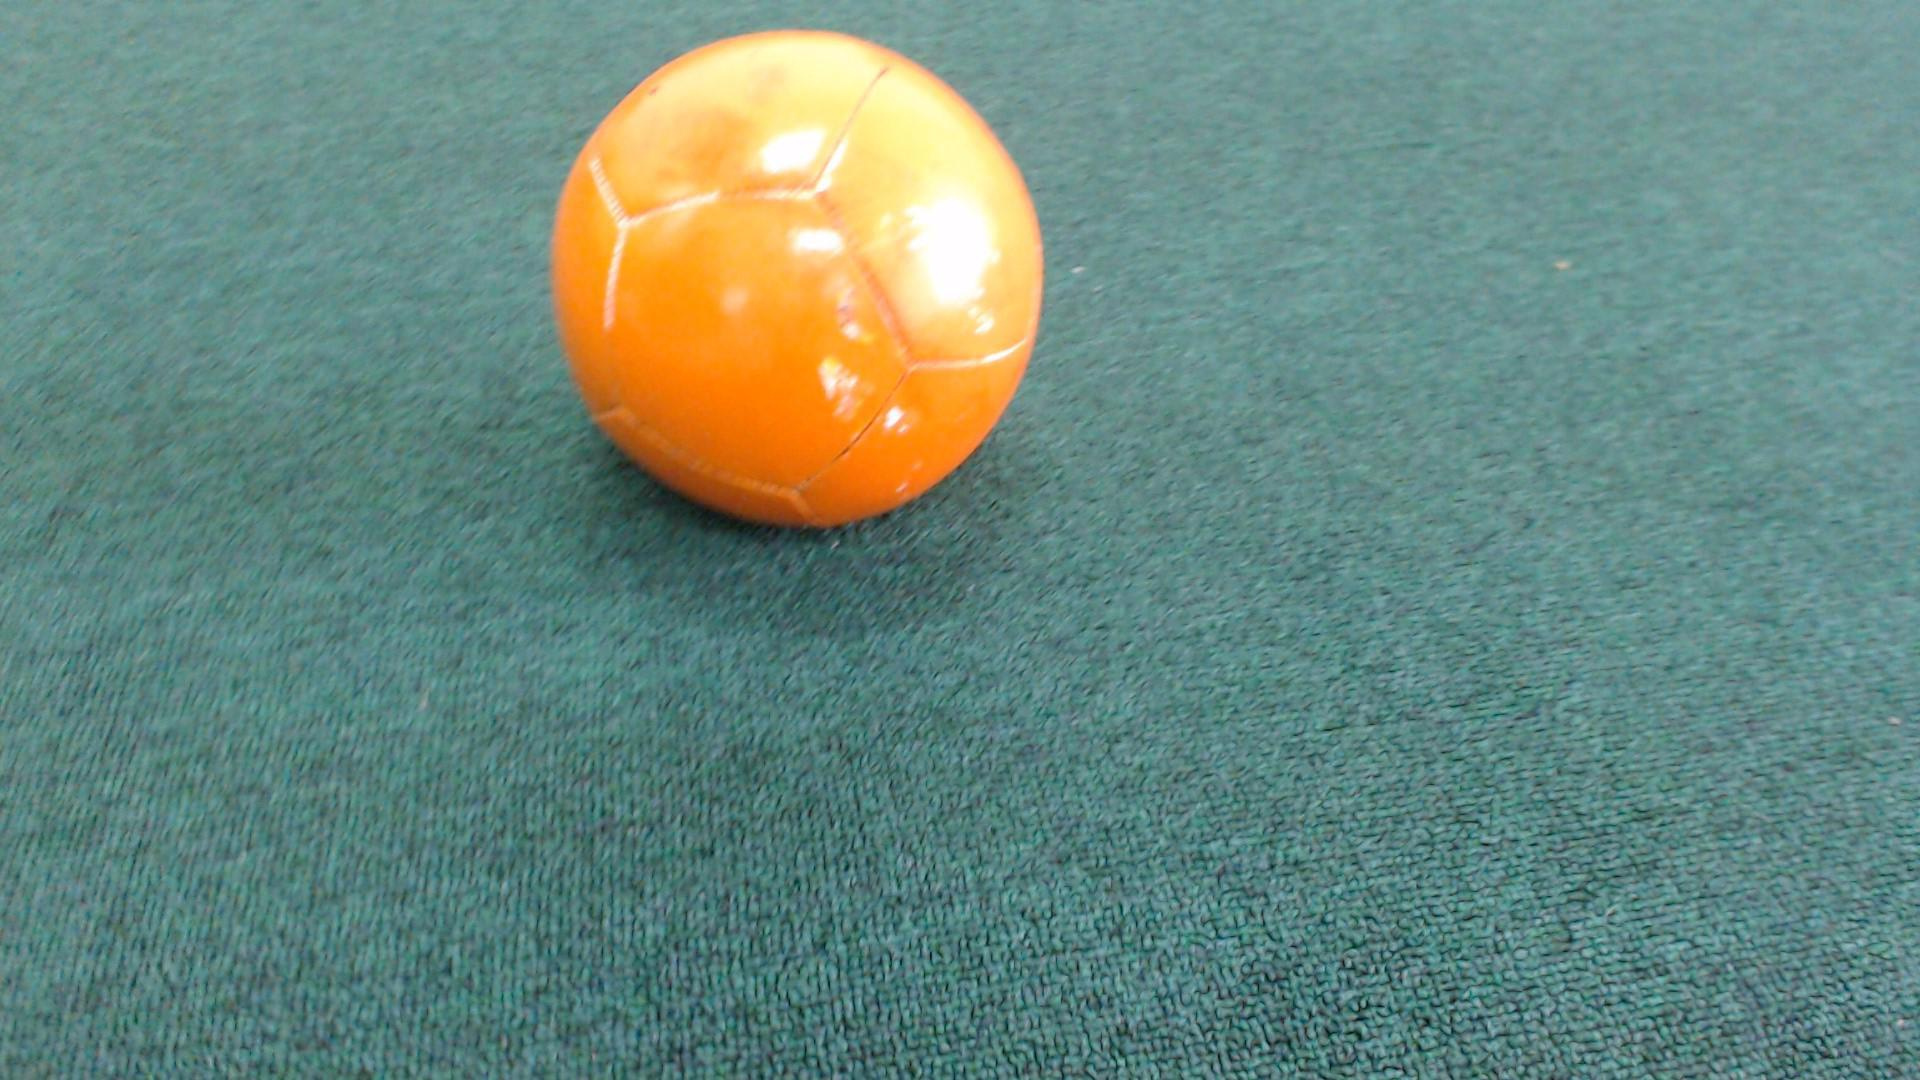bola: (527, 22, 1105, 568)
